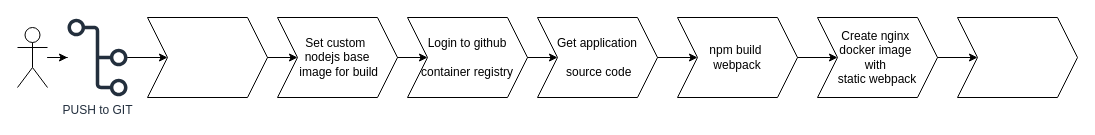
Some shapes in this 1095 by 135 pixel diagram are drawn without their labels. Each missing label, with the box of its shape:
Devs: (16, 26, 48, 88)
start pipeline on ubuntu server: (146, 16, 268, 98)
Upload docker image with nginx and webpack to github registry: (956, 16, 1078, 98)
